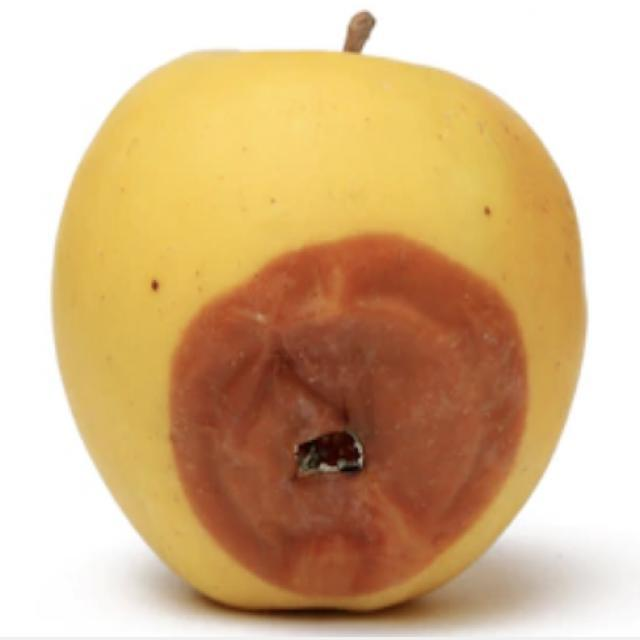Rotten: (49, 47, 588, 612)
